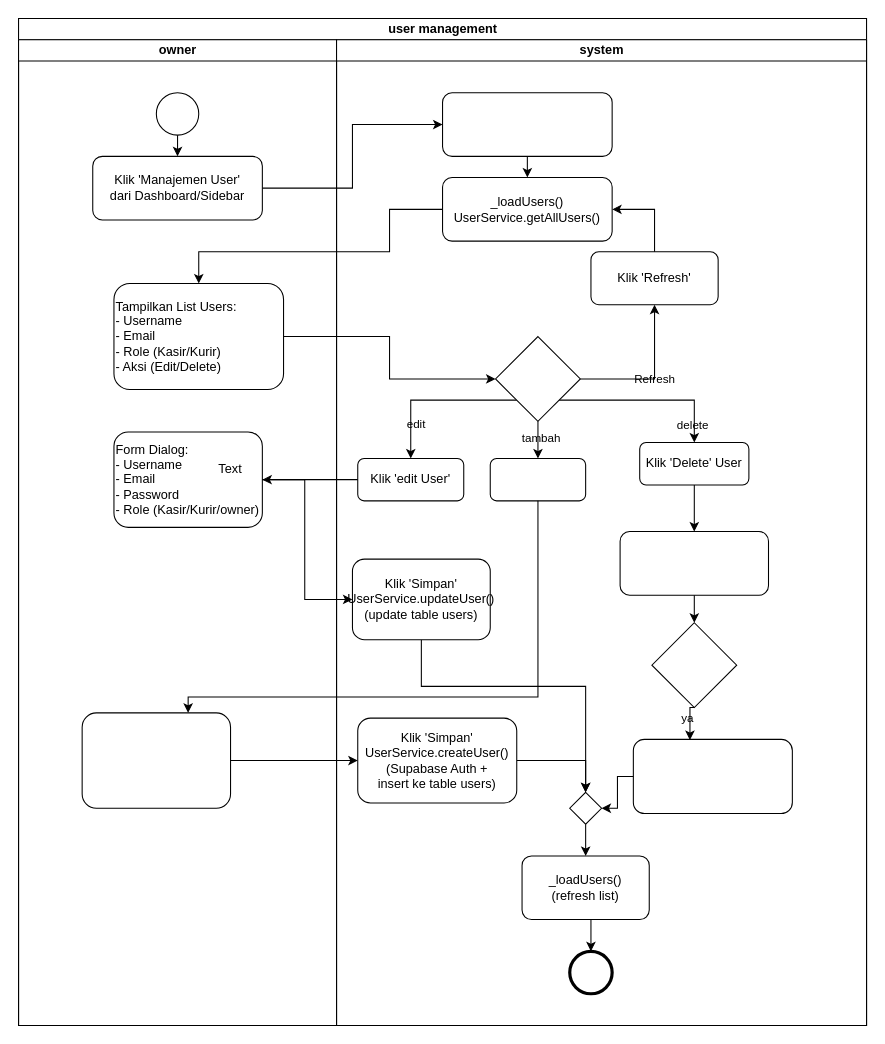
Some shapes in this 885 by 1044 pixel diagram are drawn without their labels. The centre of each missing label's shape, as x and y in pixels:
"Form Dialog (pre-fill data user): - Username - Email - Phone -role kasir/kurir" goes at [156,760].
"Klik 'tambah' User" goes at [537,479].
"Konfirmasi Dialog: 'Yakin hapus user?'" goes at [693,563].
"Navigate to UserManagementPage()" goes at [526,124].
"Pilih Aksi?" goes at [537,378].
"UserService.deleteUser() (delete dari Supabase Auth + table users)" goes at [712,776].
"Ya?" goes at [694,665].
